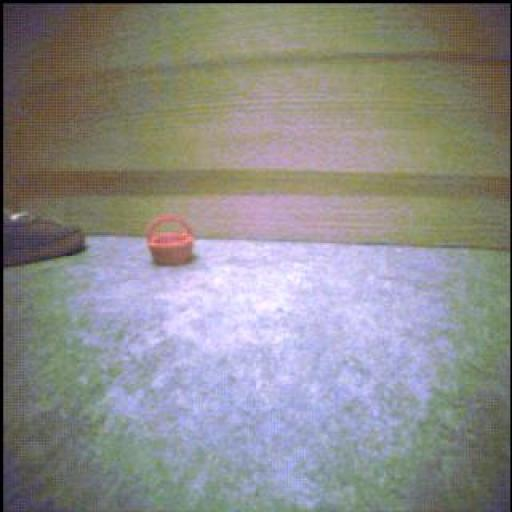Bucket: (147, 216, 195, 267)
